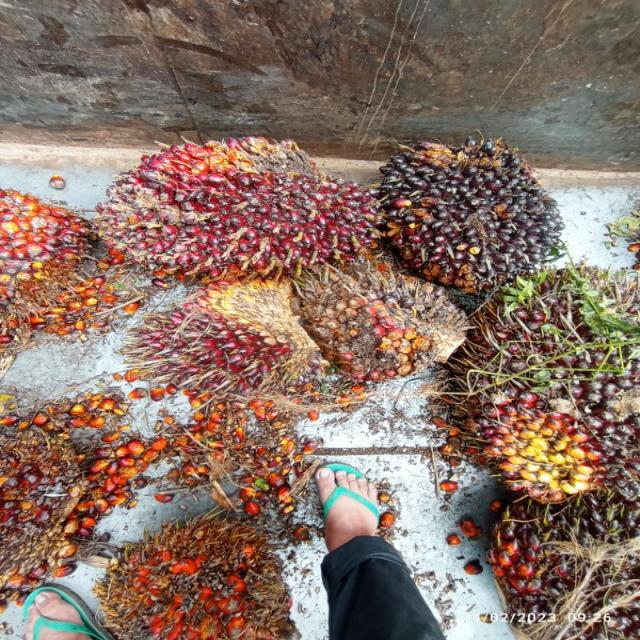fraksi 00: (382, 134, 567, 288)
fraksi 1: (456, 275, 640, 497), (298, 265, 471, 377)
fraksi 3: (93, 133, 376, 280), (126, 273, 317, 406)
fraksi 4: (100, 513, 296, 640)
